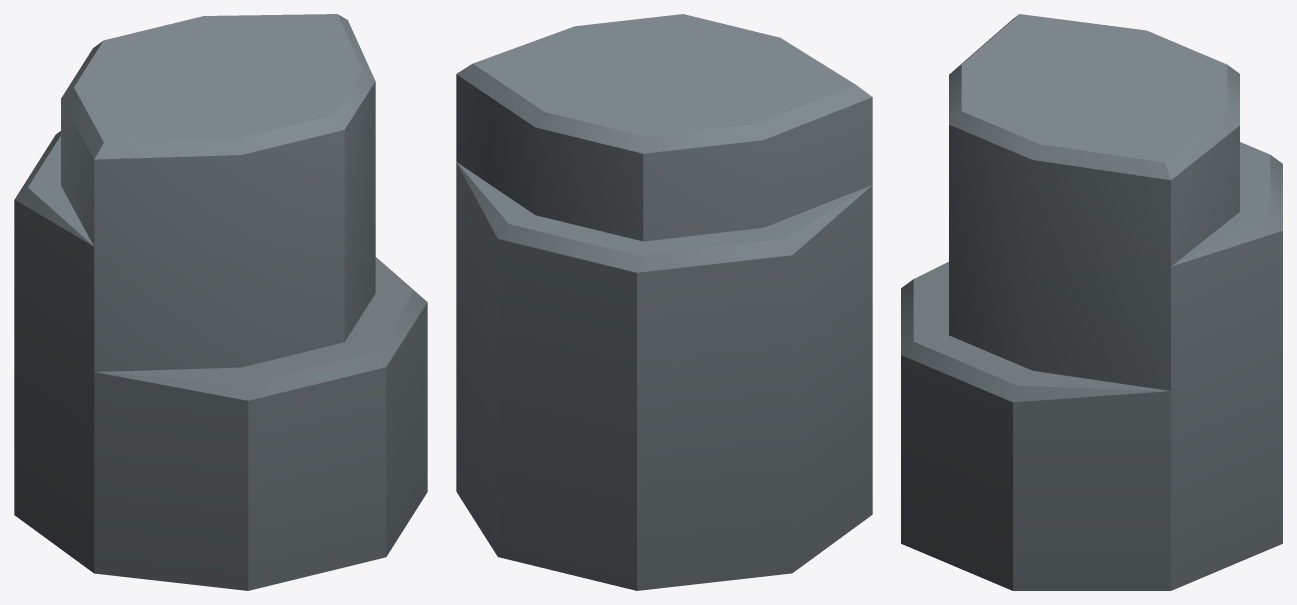
File: Rock_1_H.glb
3 views of the same model, side by side, from view 1: azimuth 30°, elevation 25°; view 2: azimuth 150°, elevation 25°; view 3: azimuth 270°, elevation 25° (orthographic).
Parts seen in each view (by area): view 1: Rock_1_H_Color1; view 2: Rock_1_H_Color1; view 3: Rock_1_H_Color1.
Part boxes in pixels (bbox=[...]): Rock_1_H_Color1: bbox=[14, 14, 427, 590]; Rock_1_H_Color1: bbox=[456, 14, 872, 590]; Rock_1_H_Color1: bbox=[901, 14, 1282, 590].
Size of the model in its own units: 1.53 by 1.87 by 1.53.
1 material, 1 textured.
